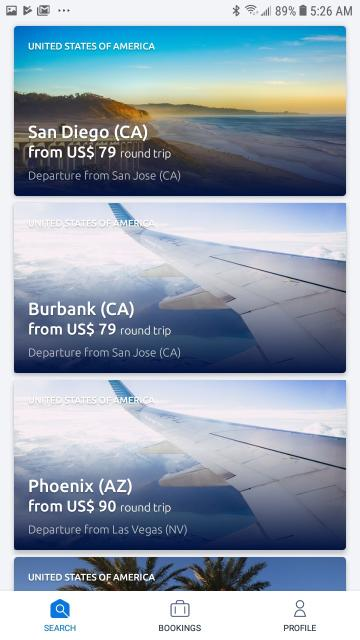Bottom_Navigation: (0, 590, 360, 640)
Icon: (50, 598, 70, 618), (170, 599, 190, 617), (294, 599, 307, 617)
Image: (14, 26, 346, 196), (14, 203, 346, 373), (15, 380, 346, 550), (14, 557, 346, 591)
List: (14, 24, 346, 590)
Text: (28, 124, 170, 160), (29, 300, 171, 336), (29, 478, 171, 514), (29, 524, 187, 536), (28, 170, 180, 182), (28, 346, 180, 358), (27, 41, 154, 50), (28, 396, 156, 404), (28, 572, 156, 580), (28, 220, 156, 227), (159, 624, 201, 632), (44, 624, 76, 632), (284, 624, 316, 632)
TextImageButton: (159, 599, 201, 631), (44, 598, 75, 632), (284, 599, 316, 631)
UpperTaskBar: (0, 0, 359, 20)
